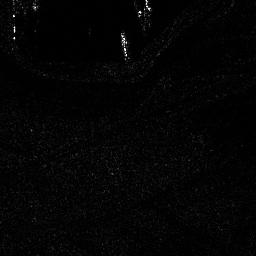ship: (119, 29, 130, 62)
